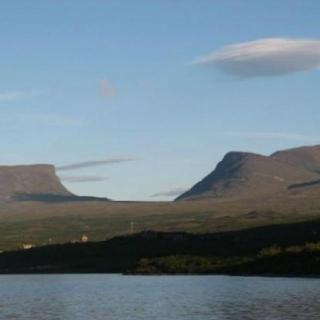Altocumulus: (193, 28, 320, 77)
